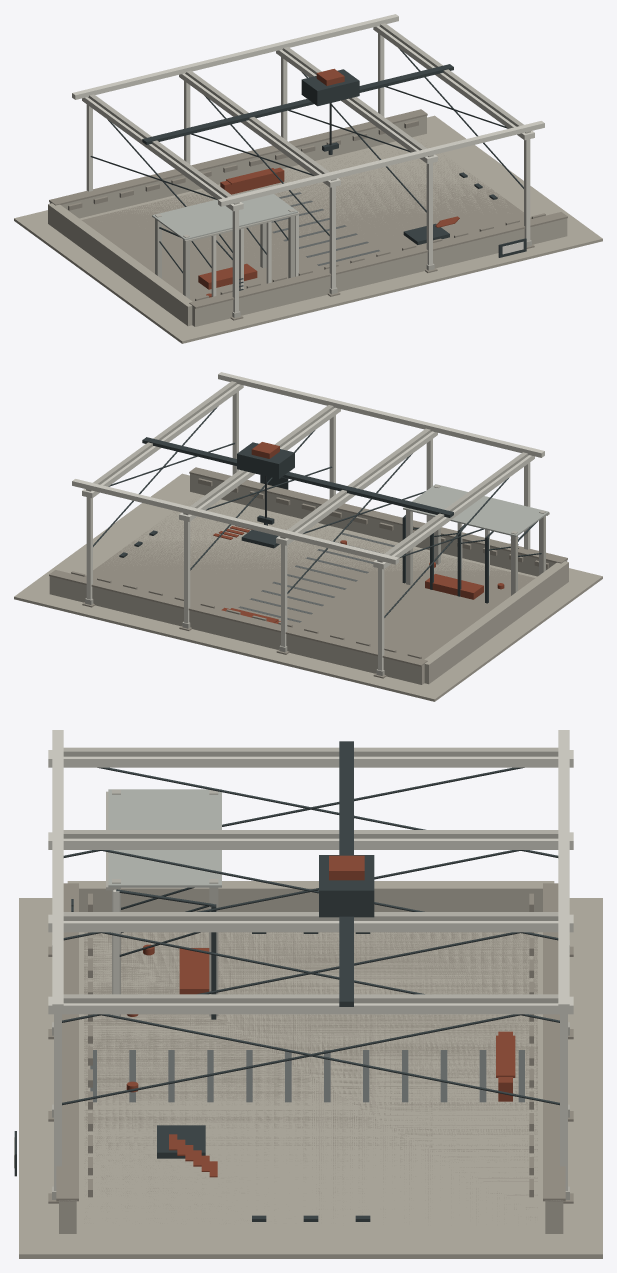
3 views of the same model, one above another, from view 1: azimuth 30°, elevation 25°; view 2: azimuth 150°, elevation 25°; view 3: azimuth 270°, elevation 25° (orthographic). The views are drawn at different scales.
Size of the model in its own units: 3.1 by 0.9938 by 2.17.
